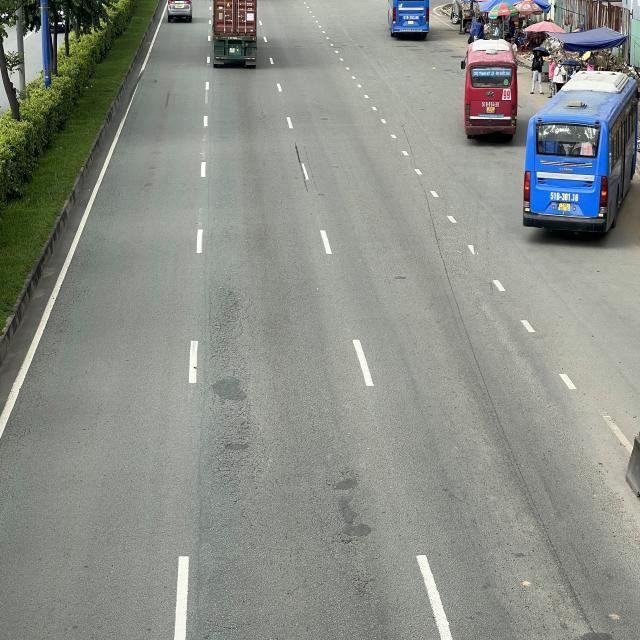coach: (522, 73, 639, 235), (461, 38, 518, 138)
container: (212, 1, 258, 68)
